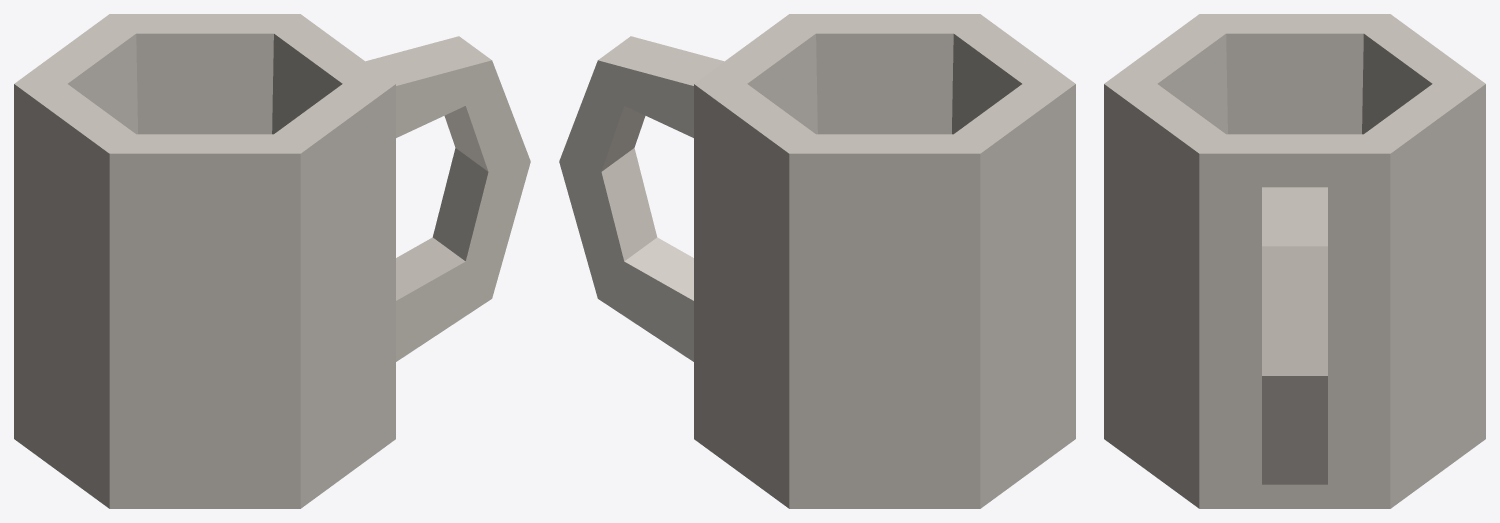
Rendered from SM_Item_Mug_01.fbx.
The picture shows the model from 3 angles, left to right: view 1: azimuth 30°, elevation 25°; view 2: azimuth 150°, elevation 25°; view 3: azimuth 270°, elevation 25°; orthographic projection.
Parts seen in each view (by area): view 1: SM_Item_Mug_01; view 2: SM_Item_Mug_01; view 3: SM_Item_Mug_01.
Boxes of the visible parts, x1=… form: SM_Item_Mug_01: x1=14, y1=14, x2=530, y2=508; SM_Item_Mug_01: x1=559, y1=14, x2=1075, y2=508; SM_Item_Mug_01: x1=1104, y1=14, x2=1485, y2=508.
Bounding box in the file's own units: 21.02 × 15.77 × 15.37.
